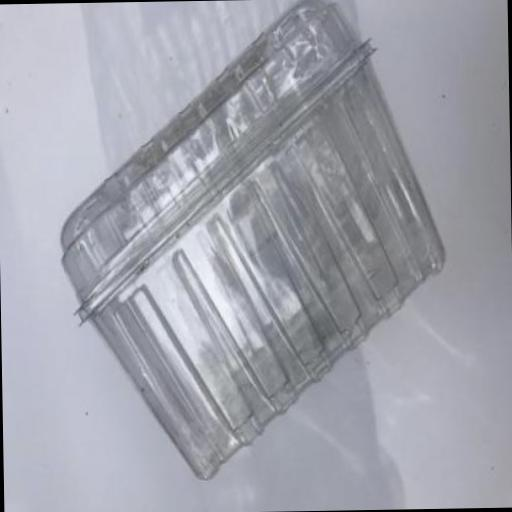plastic: (54, 0, 448, 479)
